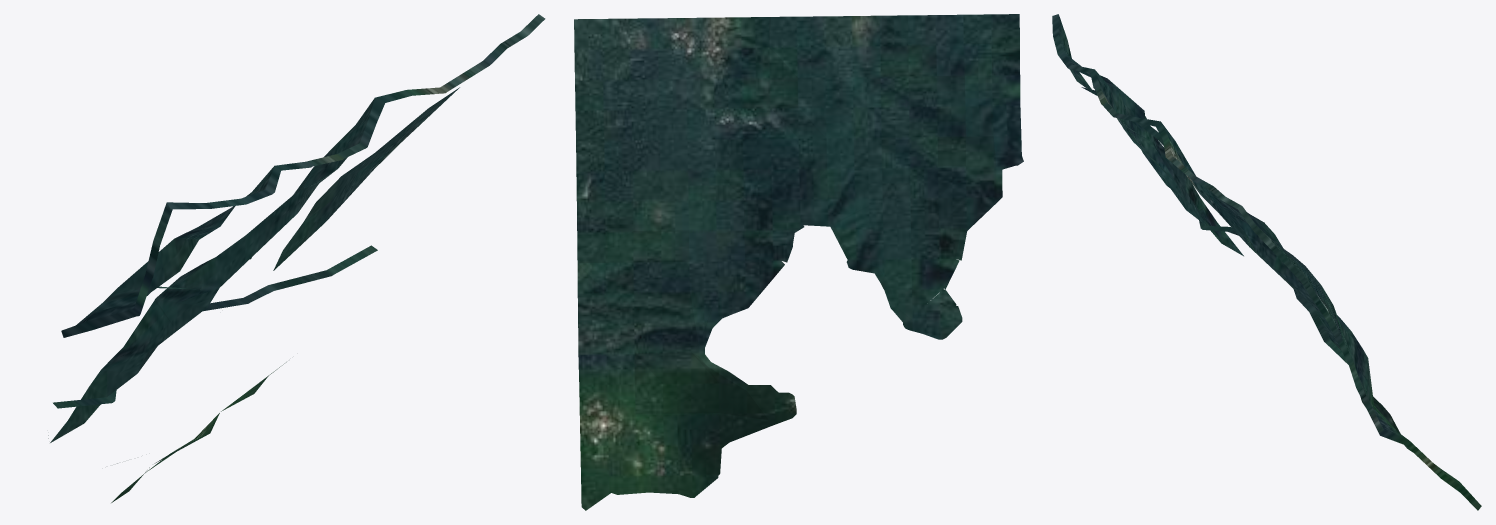
The picture shows the model from 3 angles, left to right: view 1: azimuth 30°, elevation 25°; view 2: azimuth 150°, elevation 25°; view 3: azimuth 270°, elevation 25°; orthographic projection. The views are drawn at different scales.
Bounding box in the file's own units: 2277 × 2171 × 2175.
Materials: 1 (1 with a texture image).
